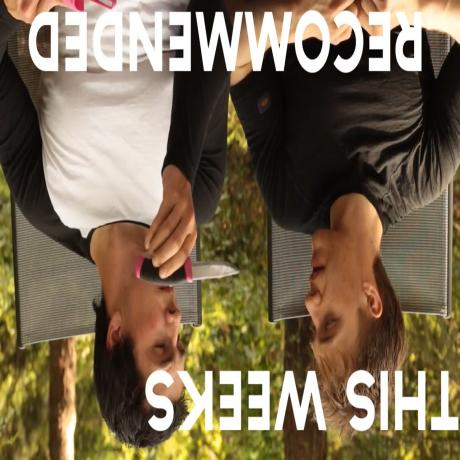1: (0, 0, 234, 449), (234, 0, 458, 434)
weapon: (135, 256, 242, 290)
